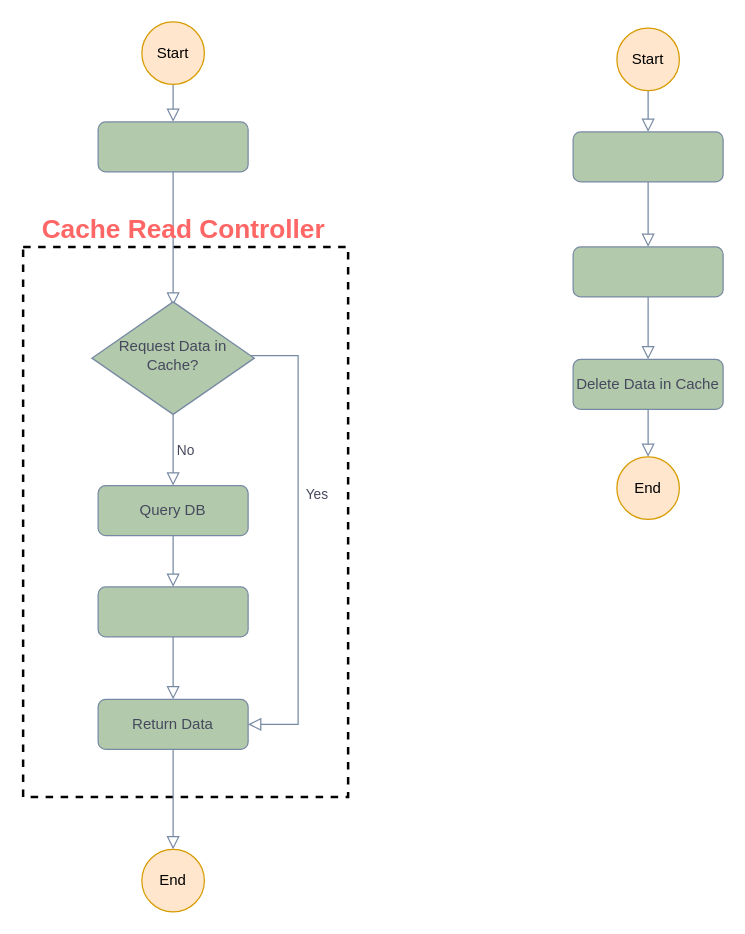
Some shapes in this 745 by 934 pixel diagram are drawn without their labels. The shapes that lost their labels are listed below. From the top down, each one's centre as x and y in pixels, then its label:
(172,146): Read Request
(647,156): Write Request
(647,271): Update DB
(172,611): Update Cache
